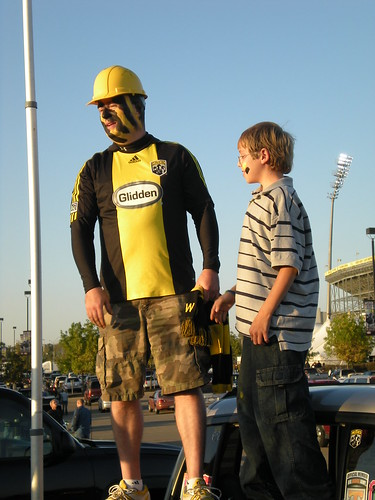person hardhat: (51, 64, 238, 500)
